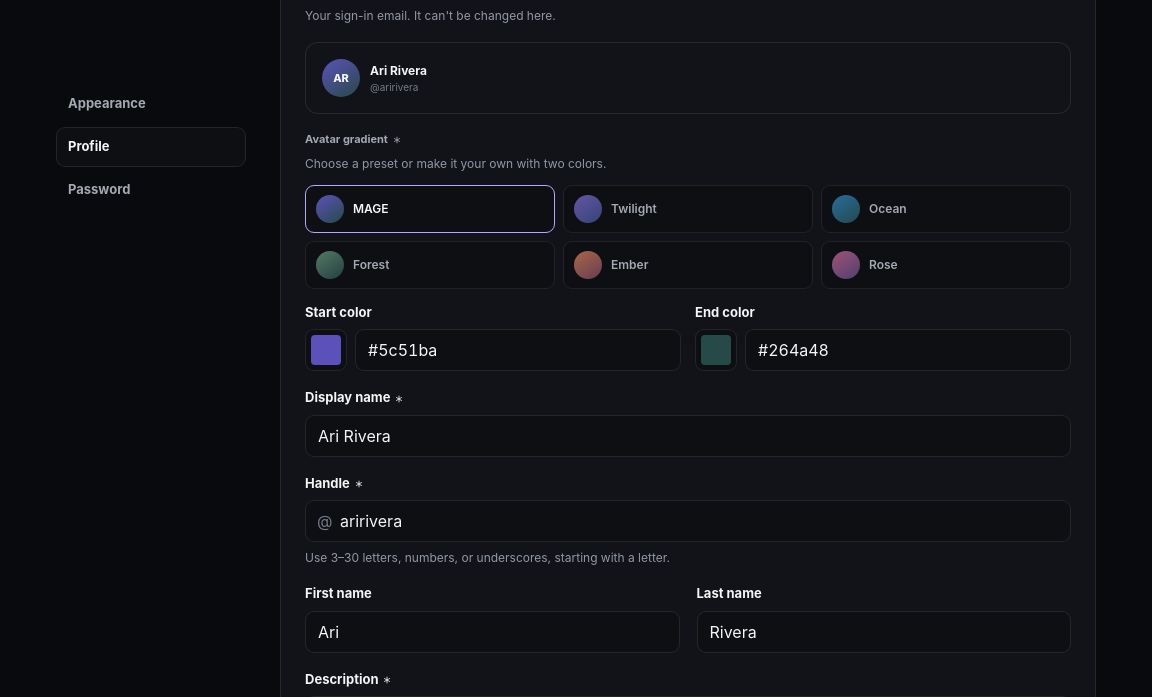
Test: Settings avatar gradients › saves custom hex colors with profile details and propagates returned colors to the authenticated account
The image size is (1152, 697).
(page scrolled)
Replace the text in the field labelled "Start color" with "#1122AA" at (518, 350), box [355, 329, 681, 371]
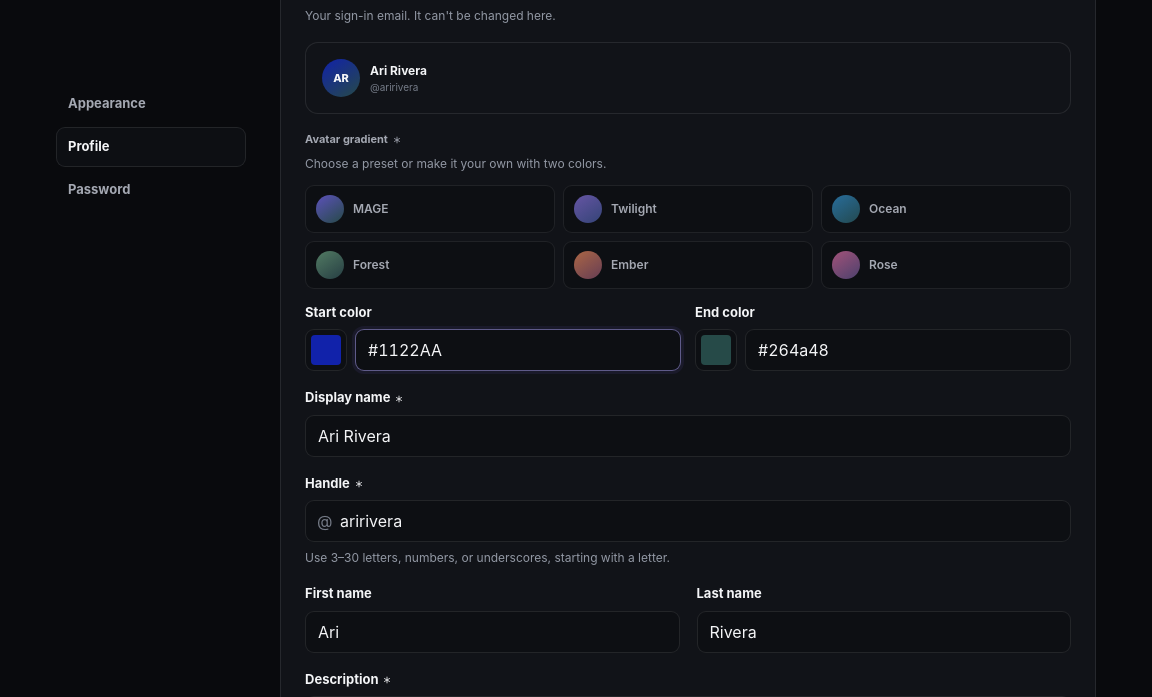
Replace the text in the field labelled "End color" with "#EFABCD" at (908, 350), box [745, 329, 1071, 371]
(page scrolled)
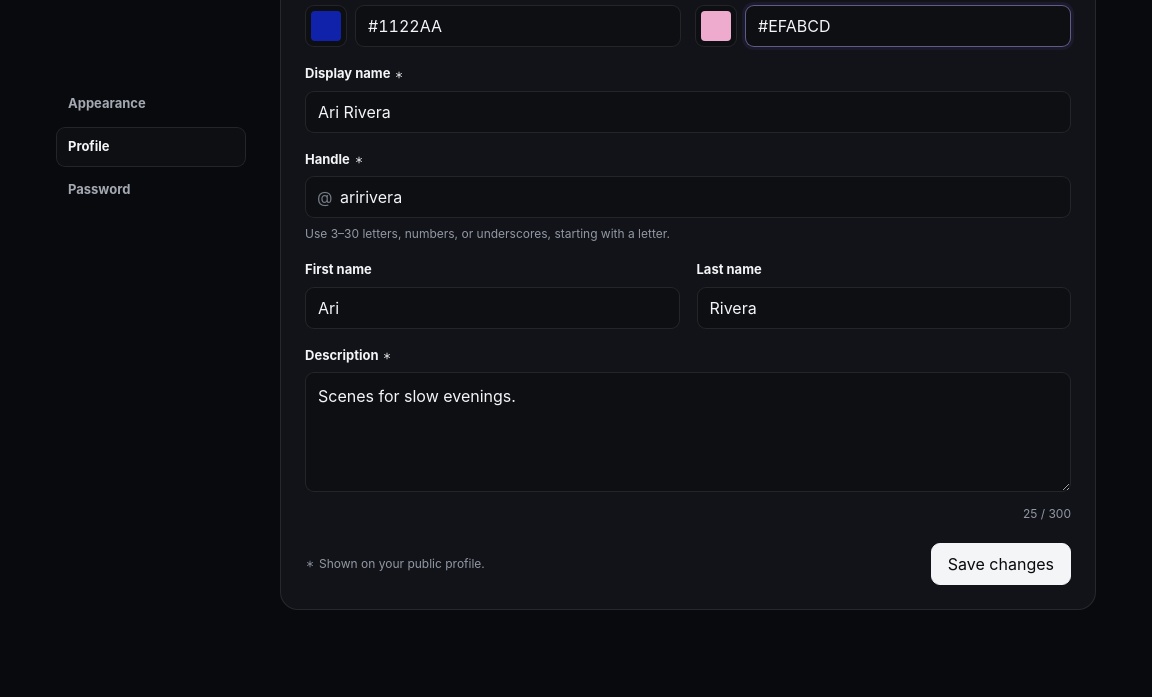
Click the button "Save changes" at (1001, 564), box [931, 543, 1071, 585]
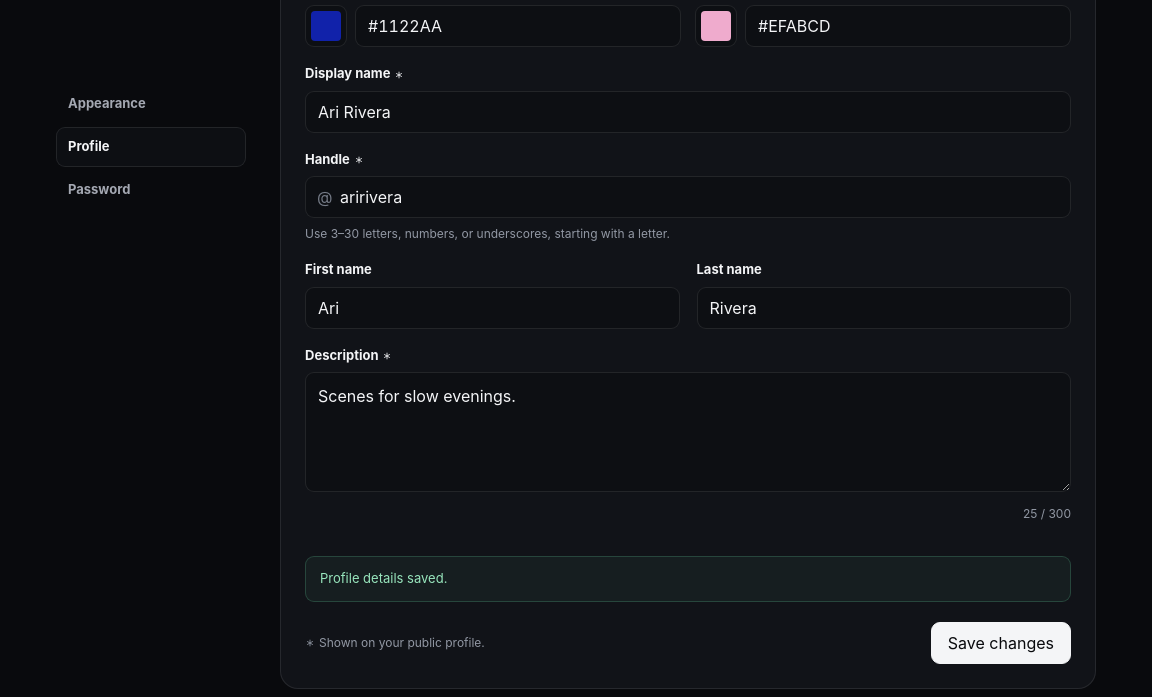
expect the text "Profile details saved." is shown: met, box [305, 556, 1071, 602]
